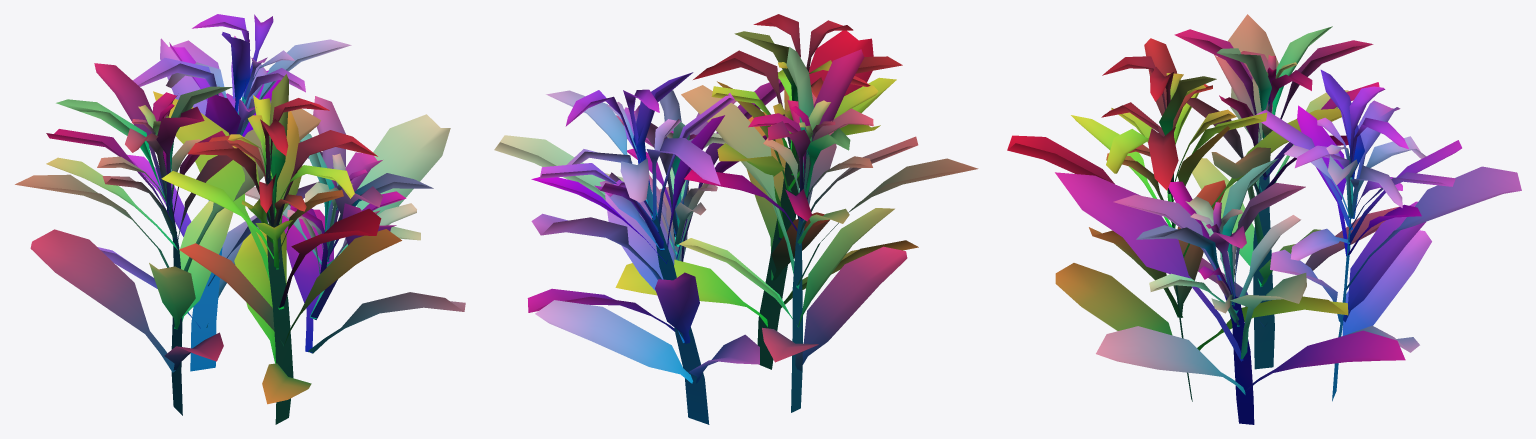
The model's file is Sage_ve3gbfoja_Mid_ve3gbfoja_VarH_LOD1.fbx.
The picture shows the model from 3 angles, left to right: view 1: azimuth 30°, elevation 25°; view 2: azimuth 150°, elevation 25°; view 3: azimuth 270°, elevation 25°; orthographic projection. The views are drawn at different scales.
Visible parts, largest first — view 1: _b5v1_VarH_LOD3; view 2: _b5v1_VarH_LOD3; view 3: _b5v1_VarH_LOD3.
Boxes of the visible parts, bbox=[...] form: _b5v1_VarH_LOD3: bbox=[15, 14, 465, 424]; _b5v1_VarH_LOD3: bbox=[494, 14, 978, 424]; _b5v1_VarH_LOD3: bbox=[1007, 14, 1521, 424].
Bounding box in the file's own units: 40 × 28.65 × 39.9.
